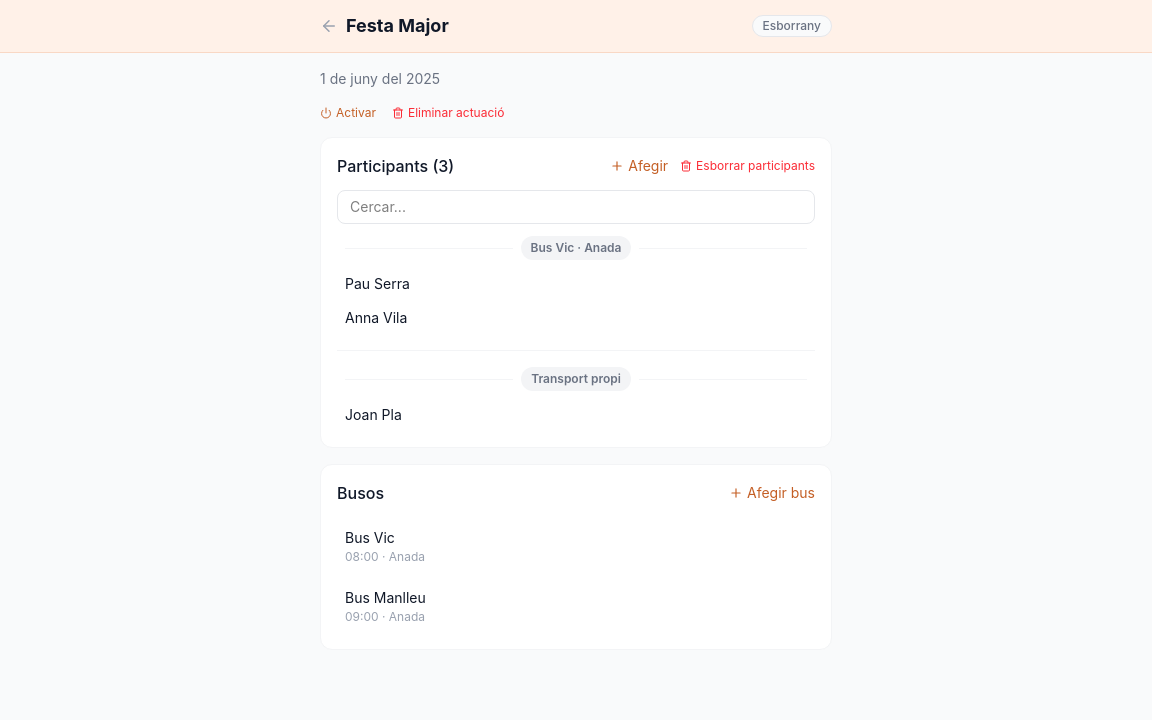
it: EventAdmin - participants › esborrar participants mostra confirmació inline
Click the button "Esborrar participants": coordinates (748, 166) [680,158,815,174]
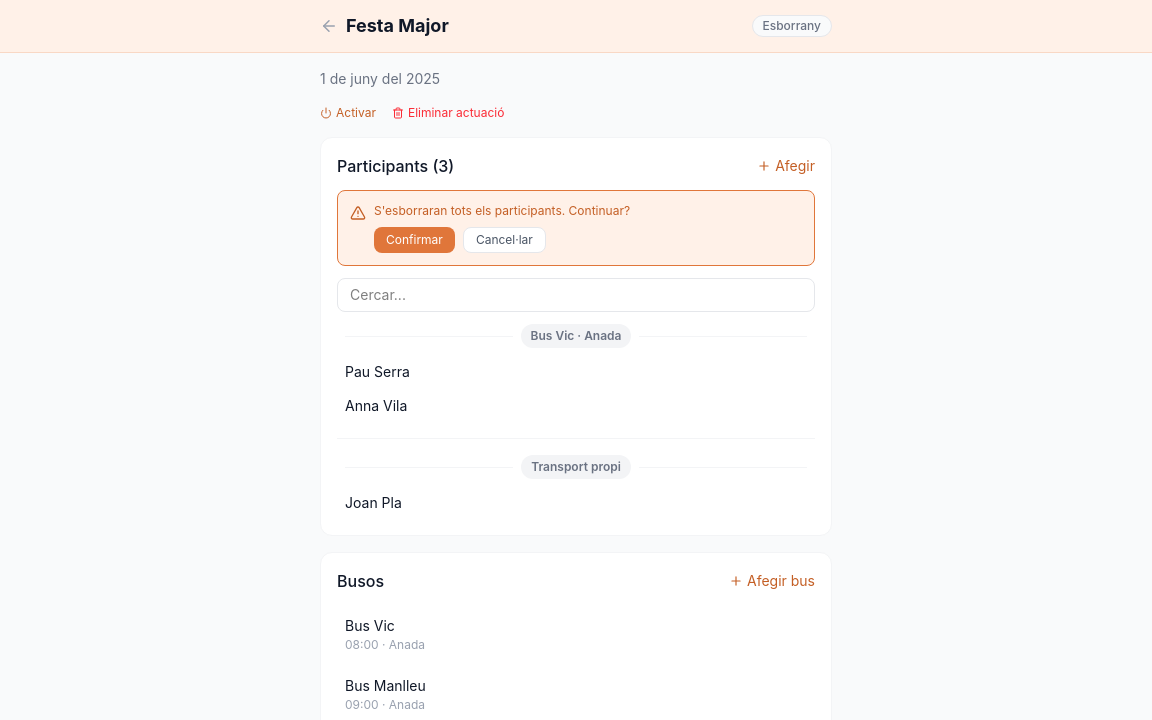
Check: the button "Confirmar" is shown, box [374,227,455,253]
